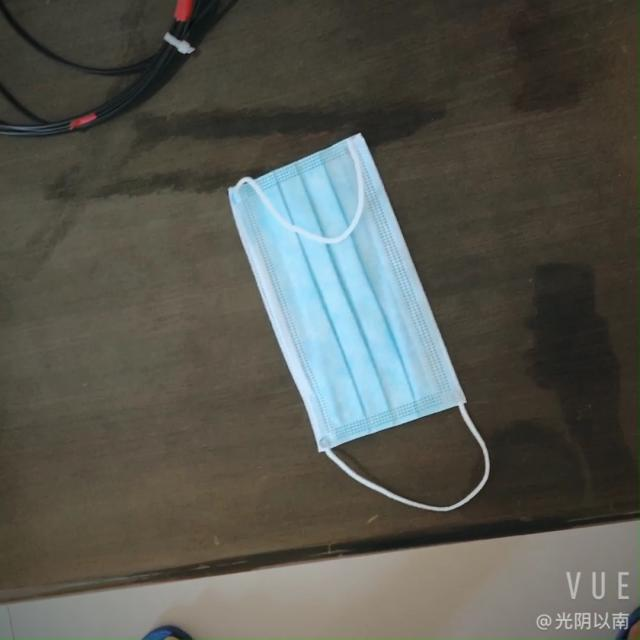non-organic waste: (246, 130, 472, 463)
